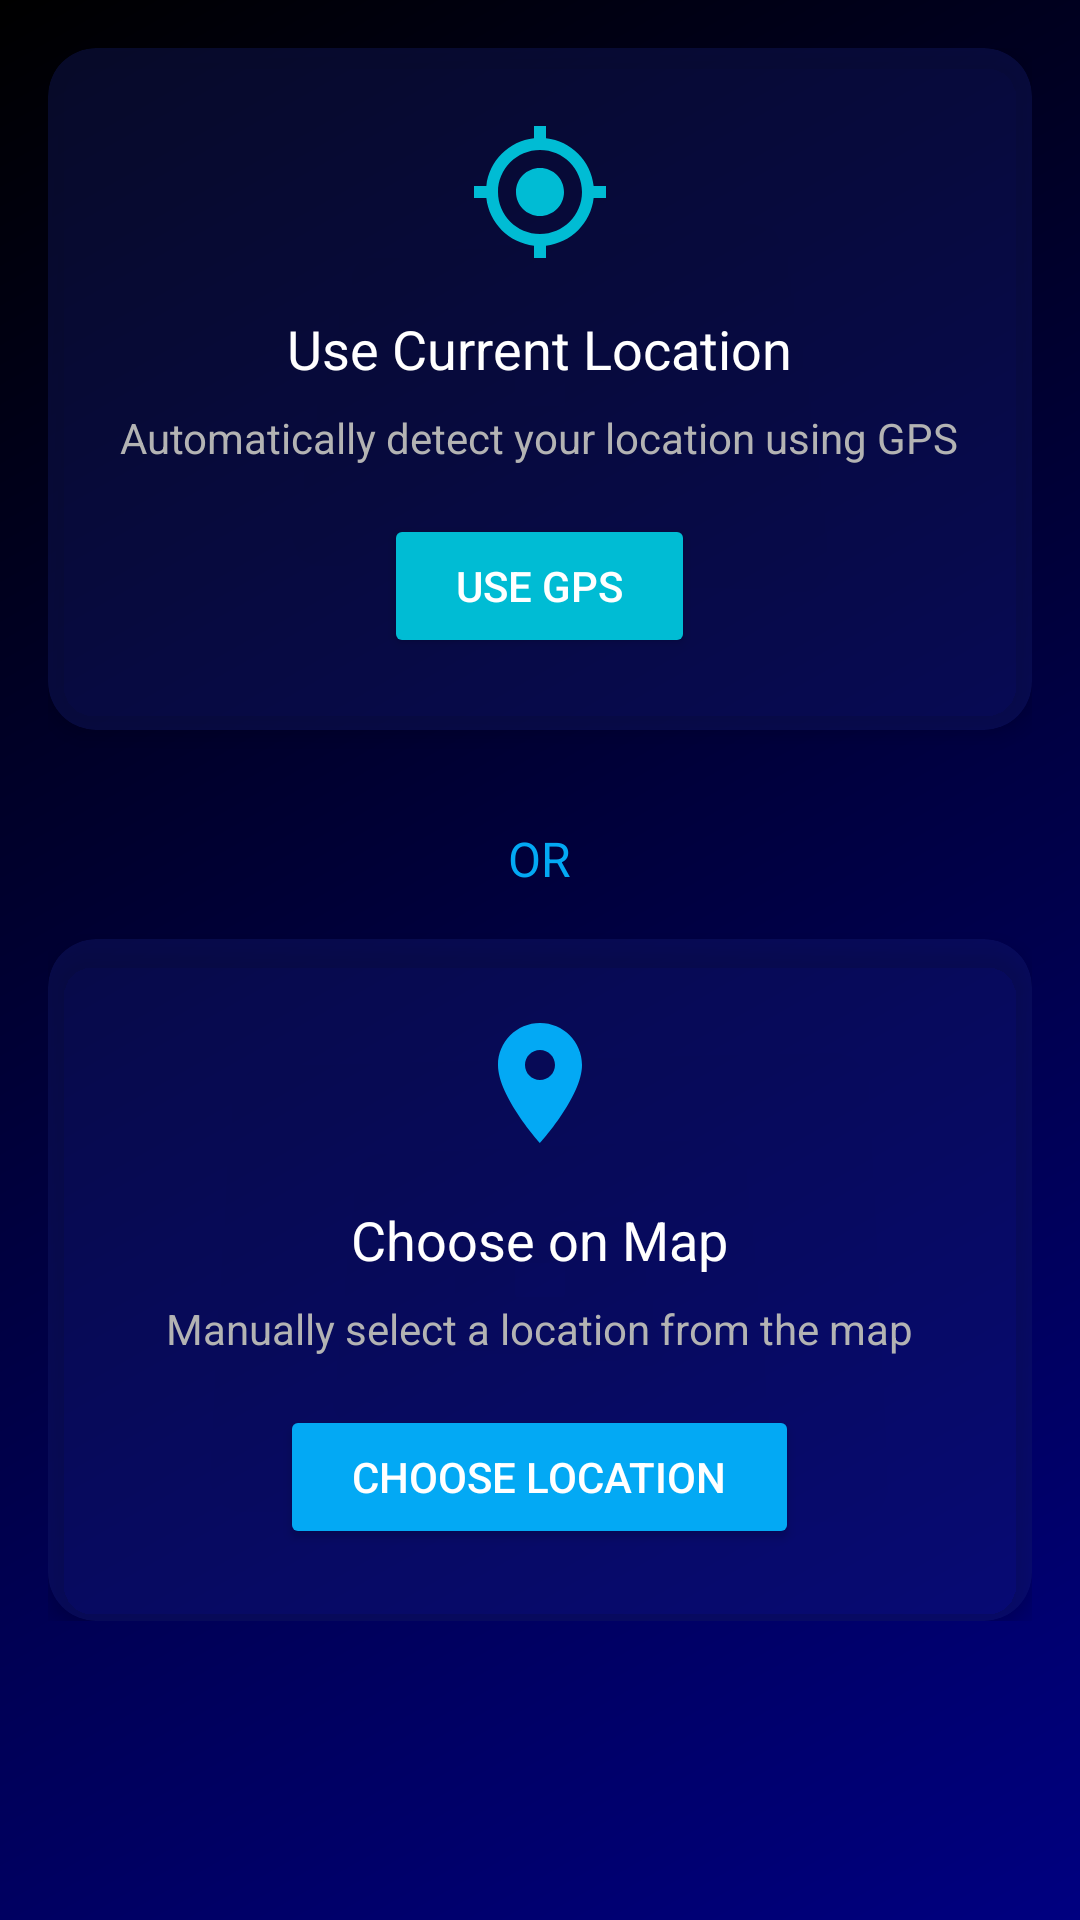

Where to tap for icons on this 1080x1920 app screen, as [x,y]:
map marker: [540,1083]
